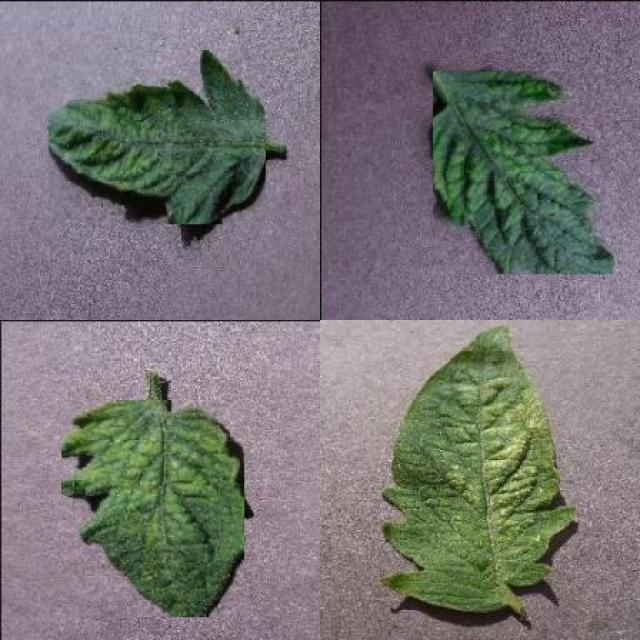Mosaic Virus: (62, 400, 245, 617), (48, 50, 266, 224), (433, 72, 613, 274)
Spider Mites: (379, 323, 577, 617)
